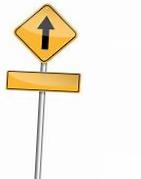forward: (14, 3, 77, 61)
